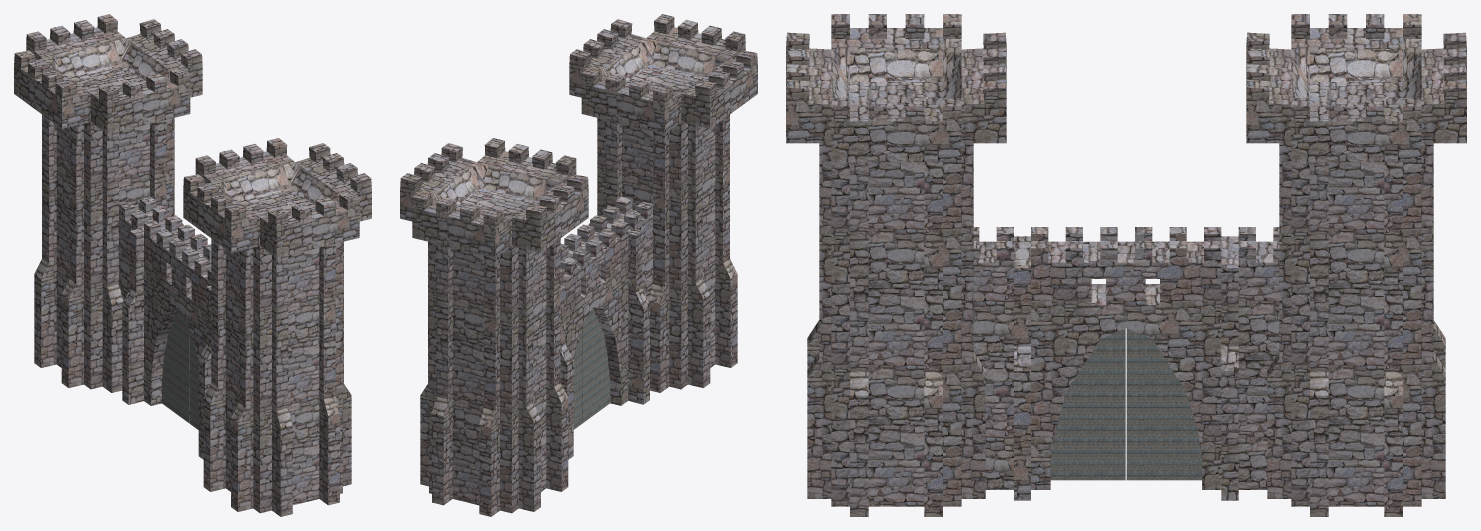
File: Stone_Wall_Castle_Gate_001.fbx
3 renders of one model, left to right at view 1: azimuth 30°, elevation 25°; view 2: azimuth 150°, elevation 25°; view 3: azimuth 270°, elevation 25°, orthographic. The views are drawn at different scales.
Visible parts, largest first — view 1: Box002, Box003, Box004, Box008; view 2: Box003, Box002, Box004, Box008; view 3: Box002, Box003, Box004, Box008.
Part boxes in pixels (x1,y1,x2,y2): Box002: (183,138,371,516); Box003: (14,14,202,392); Box004: (119,196,211,459); Box008: (162,308,198,429); Box003: (400,138,588,516); Box002: (569,14,757,392); Box004: (560,196,652,459); Box008: (573,308,610,429); Box002: (786,14,1006,516); Box003: (1246,14,1466,516); Box004: (973,227,1279,500); Box008: (1050,328,1201,480).
Size of the model in its own units: 220 by 461 by 679.
Materials: 2 (2 with a texture image).
